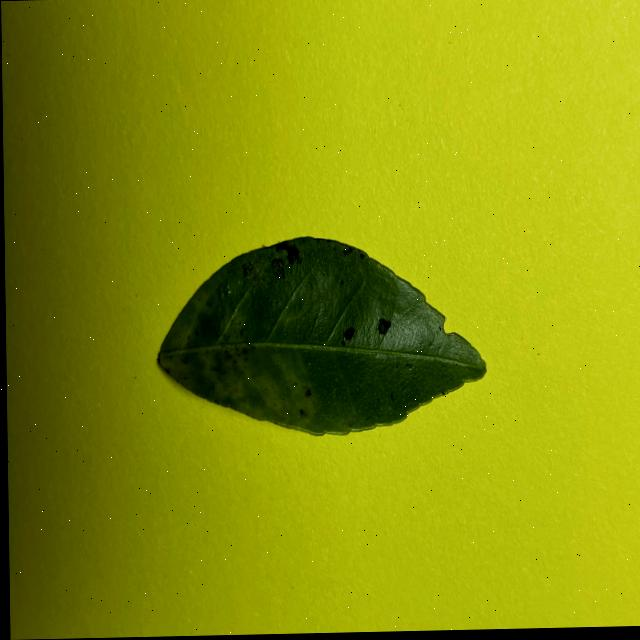sooty_mold: (158, 236, 485, 434)
